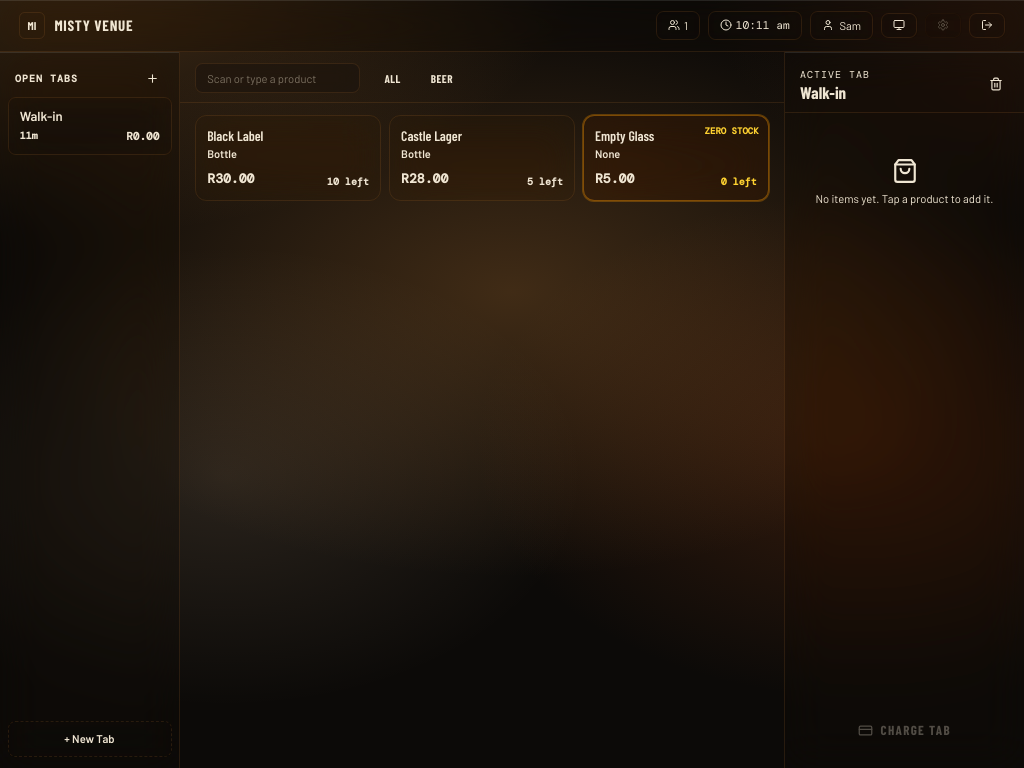
it: cart notifications › keeps one notice per rapid add and does not report the full line quantity
Click the button with aria-label "Add Black Label": (288, 158) top-left (195, 115), bottom-right (381, 201)
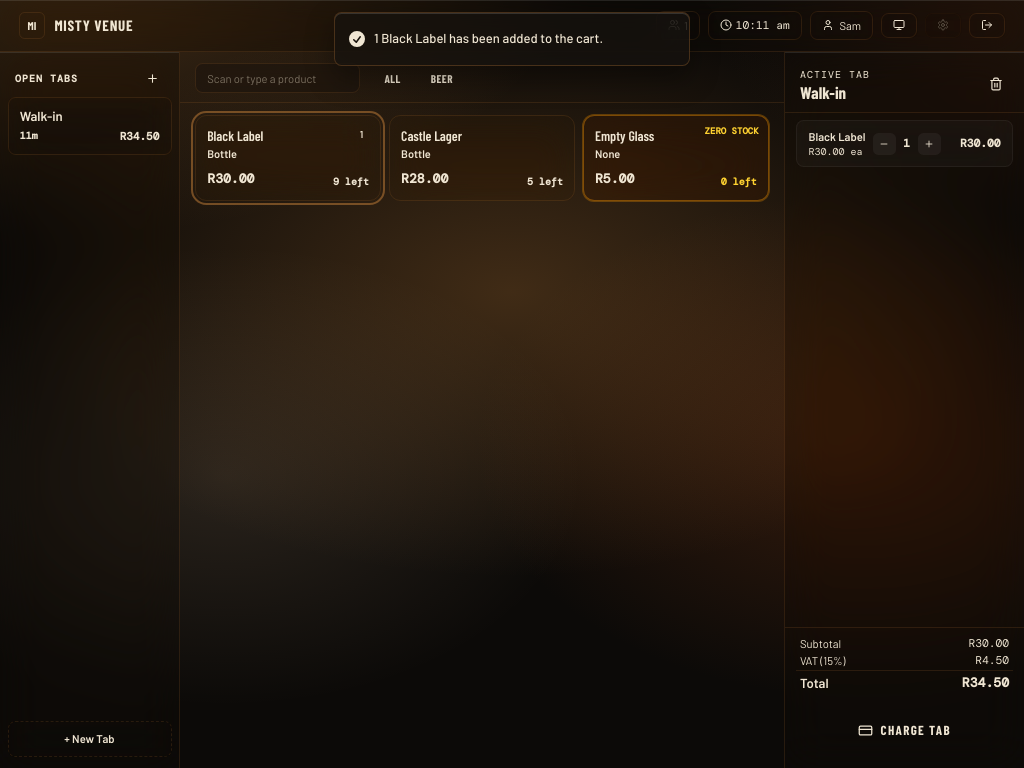
Click the button with aria-label "Add Black Label": (288, 158) top-left (195, 115), bottom-right (381, 201)
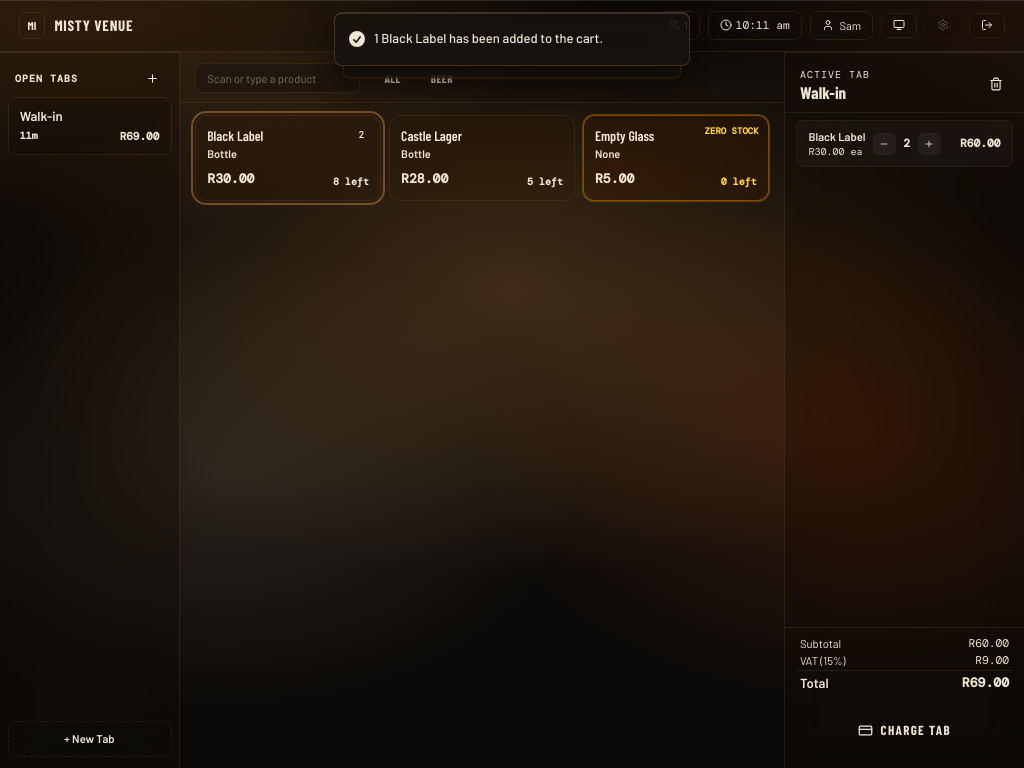
Click the button with aria-label "Add Black Label": (288, 158) top-left (195, 115), bottom-right (381, 201)
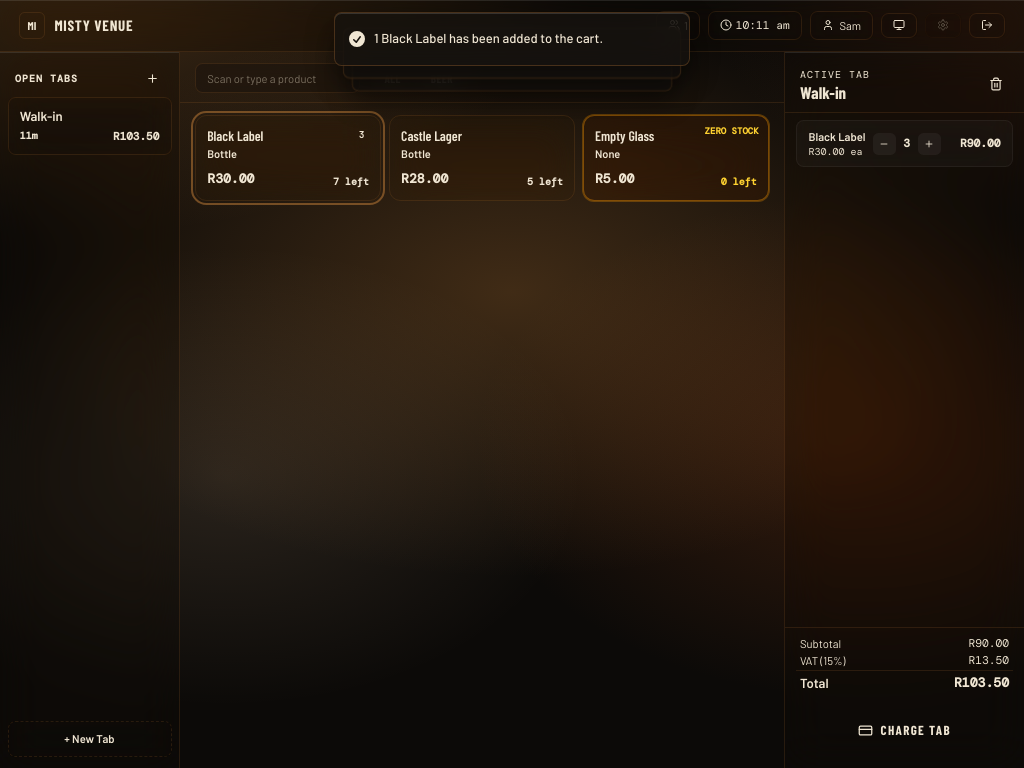
Click the button with aria-label "Add Black Label": (288, 158) top-left (195, 115), bottom-right (381, 201)
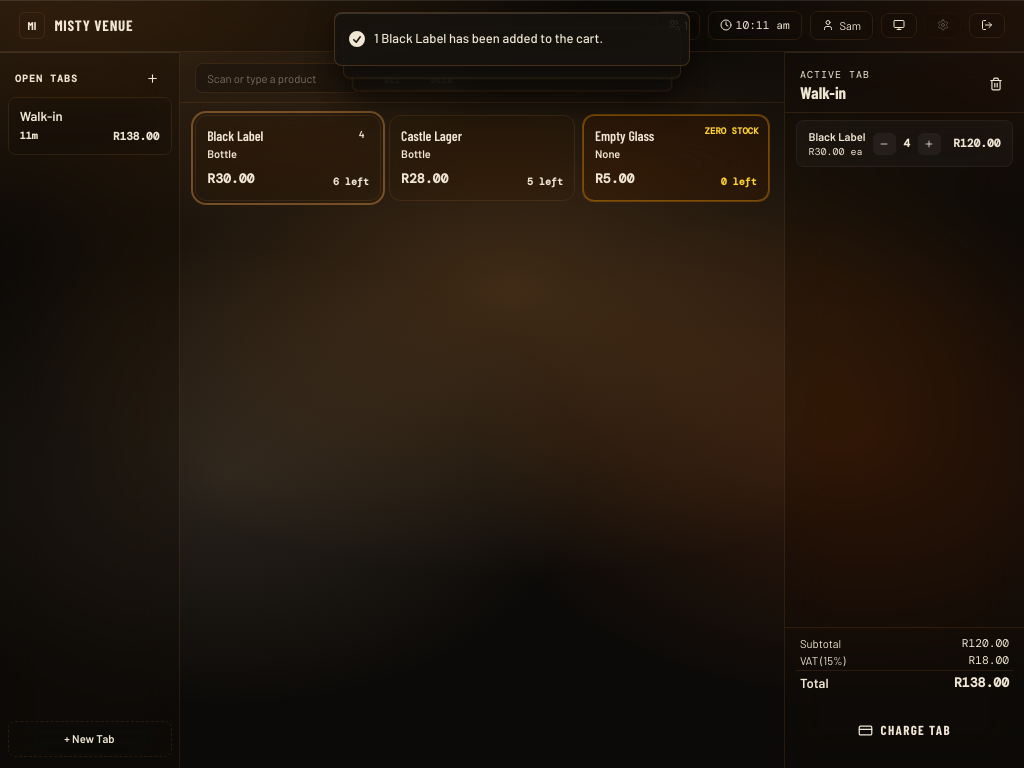
Result: the text named "Quantity 4" is shown at top-left (903, 136), bottom-right (910, 150)
